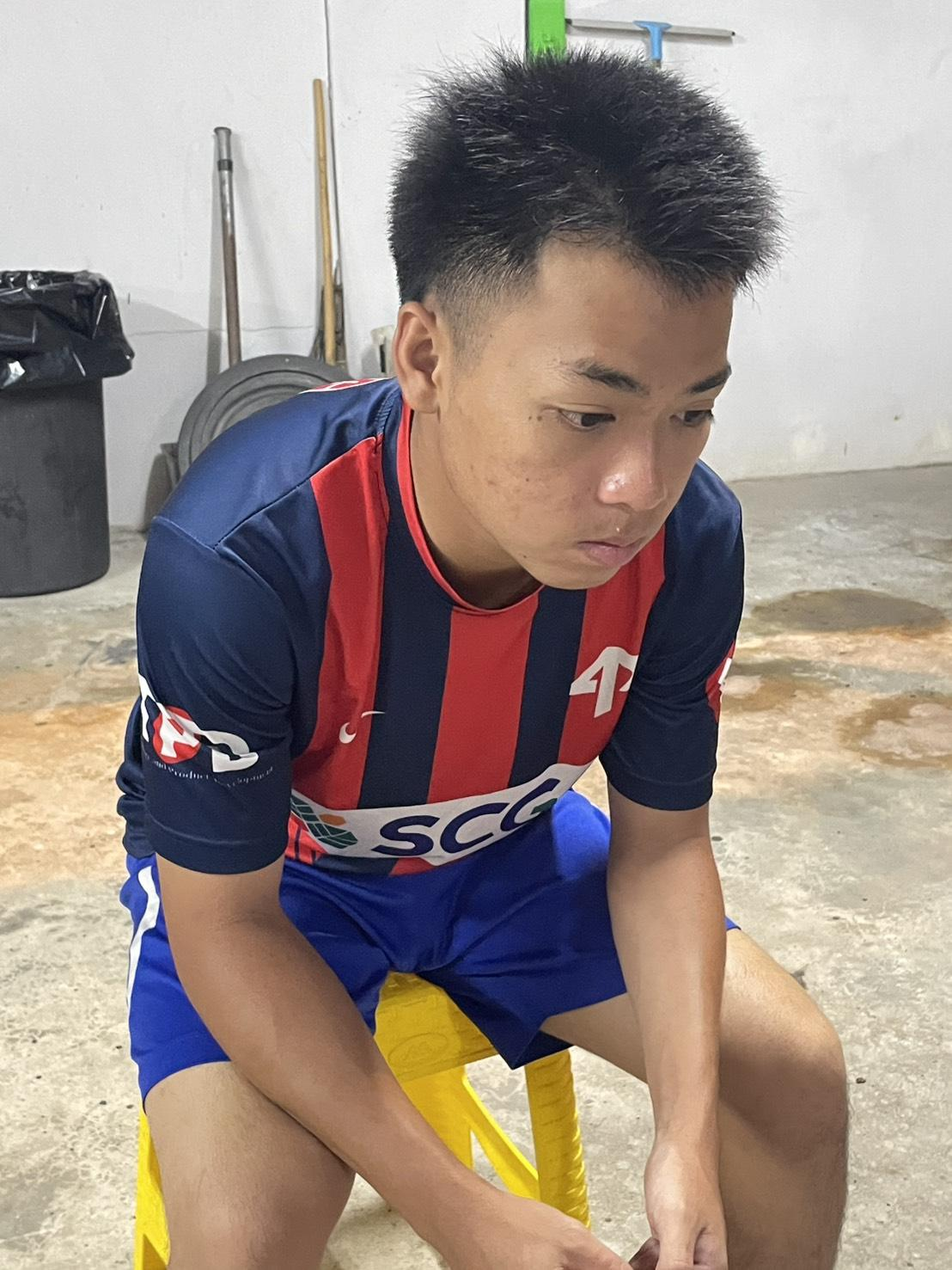BadPosture: (118, 46, 846, 1269), (118, 48, 777, 875)
